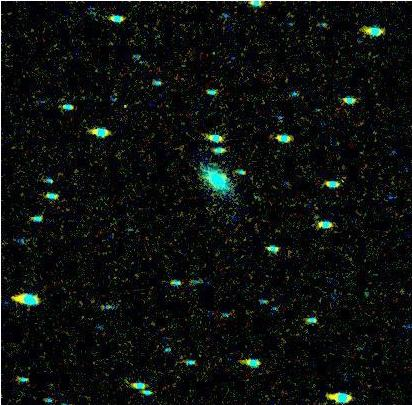star: (210, 162, 240, 192)
